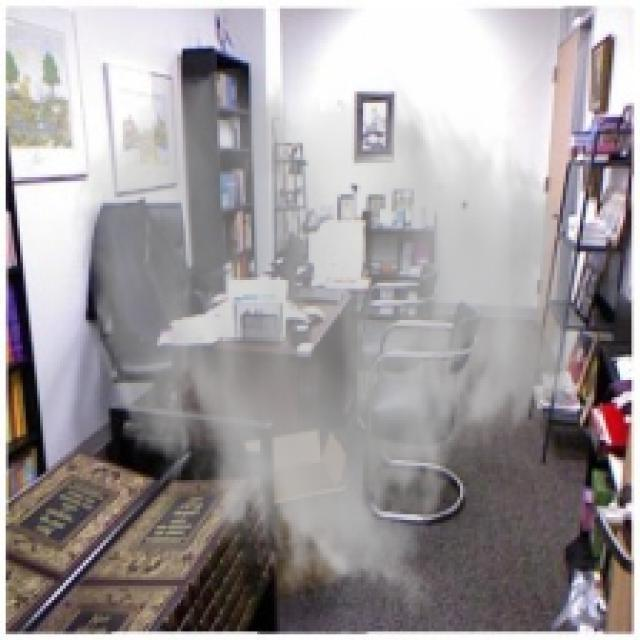Smoke: (68, 62, 594, 618)
